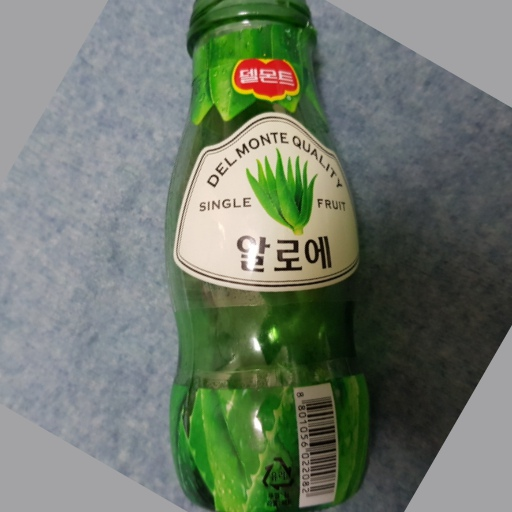Glass_4: (159, 1, 377, 512)
